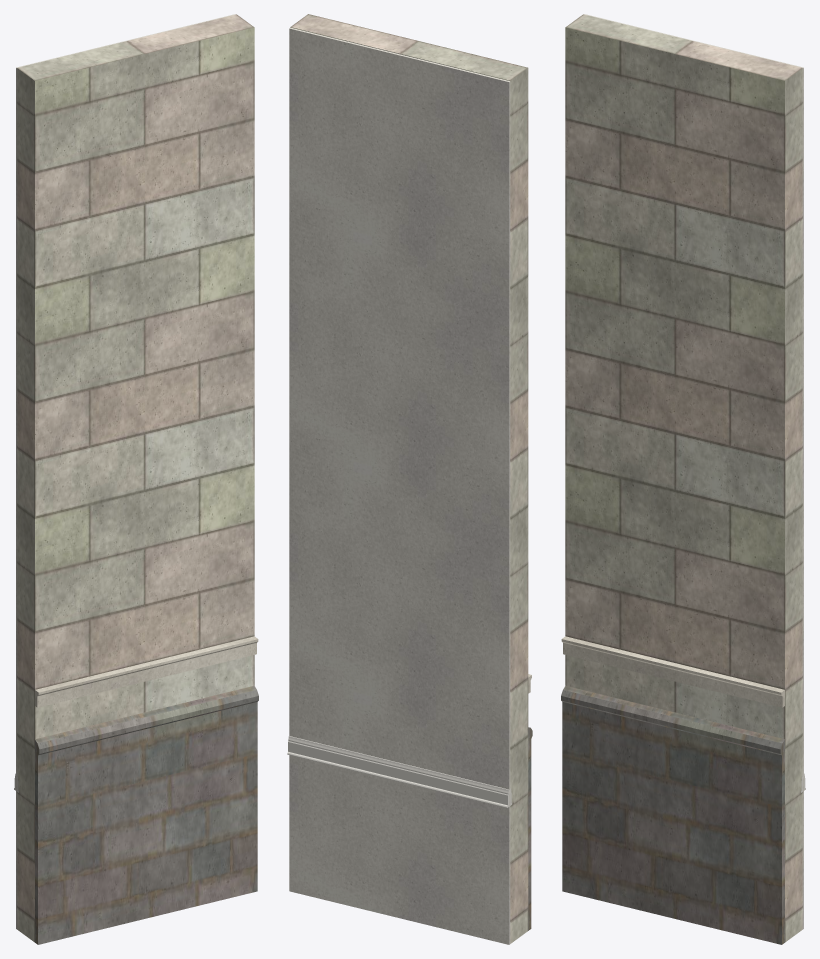
File: s_plain.glb
3 renders of one model, left to right at view 1: azimuth 30°, elevation 25°; view 2: azimuth 150°, elevation 25°; view 3: azimuth 330°, elevation 25°, orthographic.
Parts seen in each view (by area): view 1: s_plain_stone, s_plain_granite, s_plain_carve, s_plain_plaster; view 2: s_plain_plaster, s_plain_stone, molduras, s_plain_granite; view 3: s_plain_stone, s_plain_granite, s_plain_carve, s_plain_plaster.
Boxes of the visible parts, x1,y1,x2,y2 form: s_plain_stone: (17, 14, 254, 942); s_plain_granite: (35, 685, 258, 944); s_plain_carve: (35, 636, 258, 707); s_plain_plaster: (16, 14, 235, 929); s_plain_plaster: (289, 27, 510, 944); s_plain_stone: (290, 14, 528, 943); molduras: (287, 736, 512, 807); s_plain_granite: (528, 727, 532, 930); s_plain_stone: (565, 14, 802, 942); s_plain_granite: (561, 685, 784, 944); s_plain_carve: (561, 636, 784, 707); s_plain_plaster: (584, 14, 803, 929).
Bounding box in the file's own units: 2 × 7.5 × 0.4.
5 materials, 4 textured.
